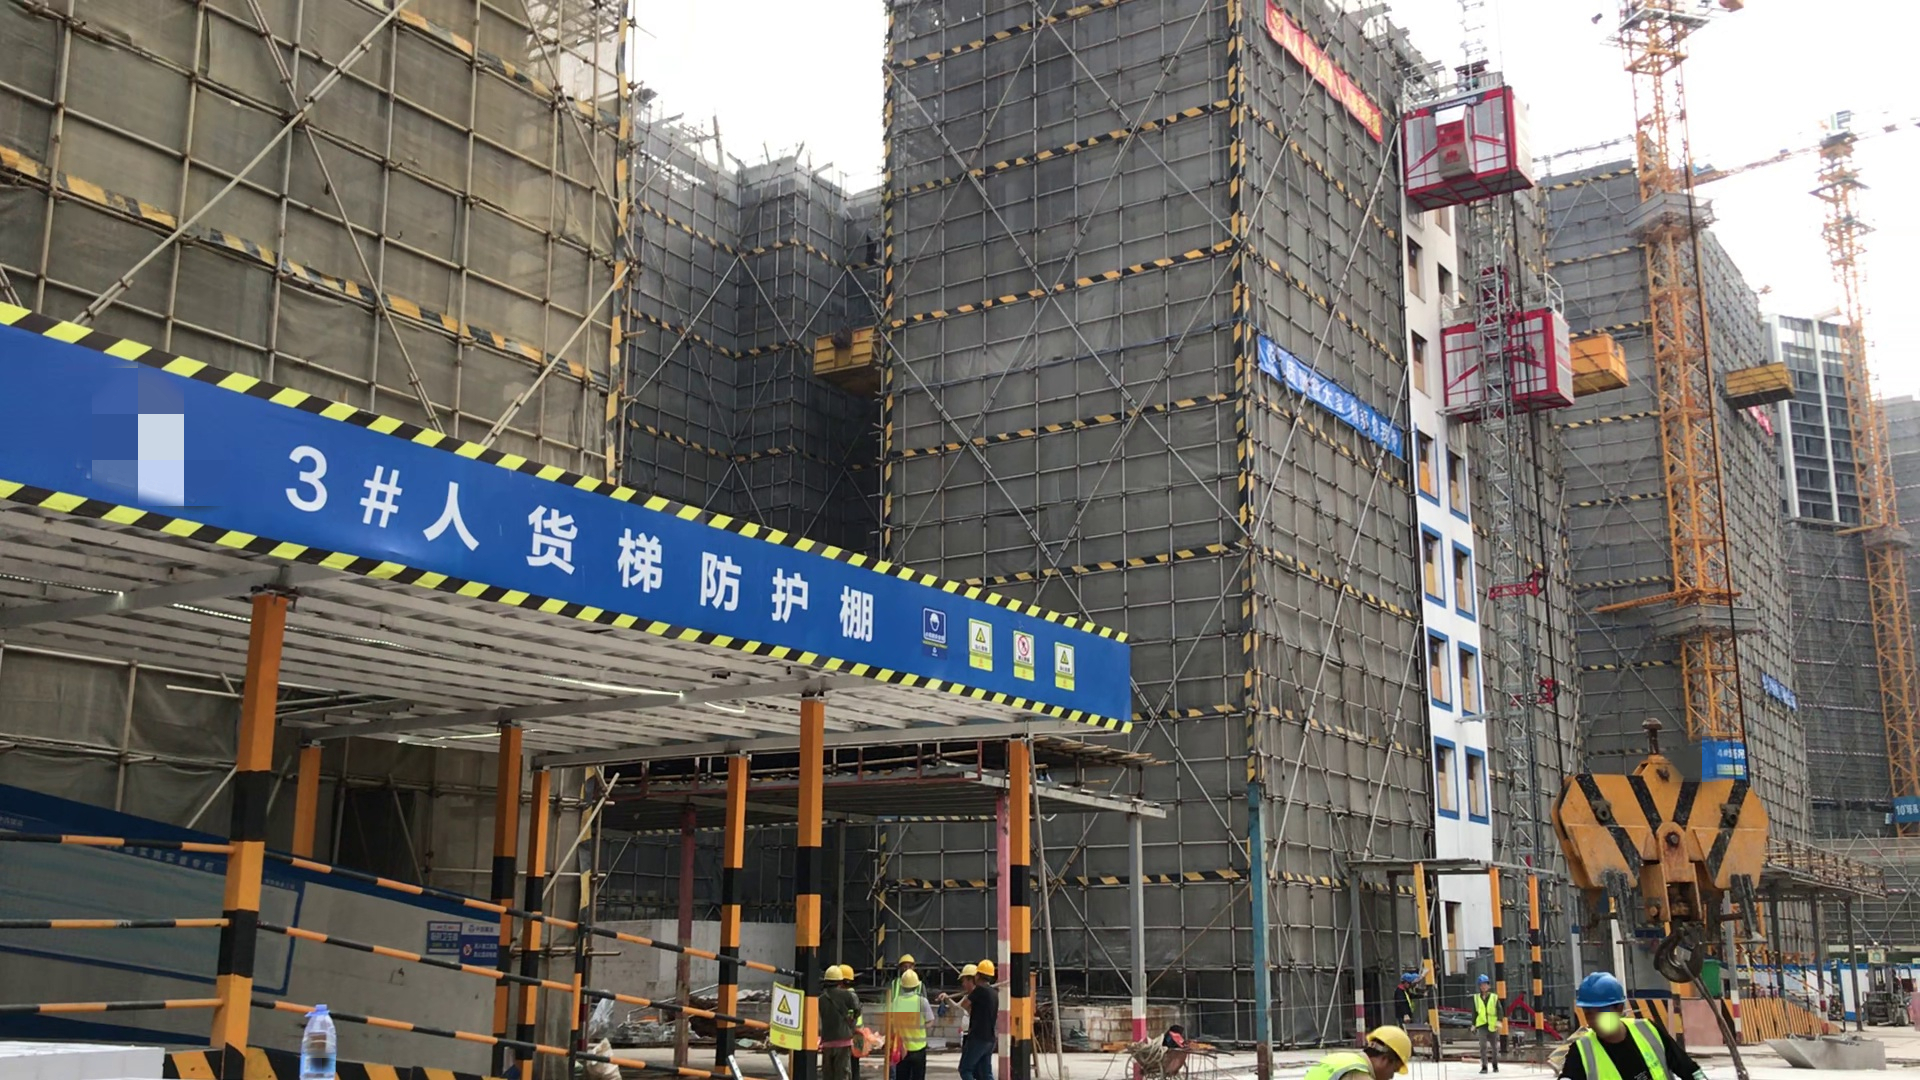helmet: (1572, 974, 1633, 1007), (1371, 1025, 1409, 1064), (822, 964, 854, 985), (897, 964, 921, 989), (960, 962, 991, 981), (1400, 971, 1419, 982), (1477, 974, 1490, 983)
person: (1561, 970, 1697, 1080), (884, 951, 939, 1080), (1302, 1018, 1408, 1080), (816, 958, 863, 1078), (953, 961, 999, 1080), (1469, 973, 1514, 1075), (1393, 966, 1425, 1014)
vest: (1571, 1023, 1665, 1080), (893, 999, 932, 1053), (1311, 1050, 1371, 1080), (1473, 992, 1501, 1029)
